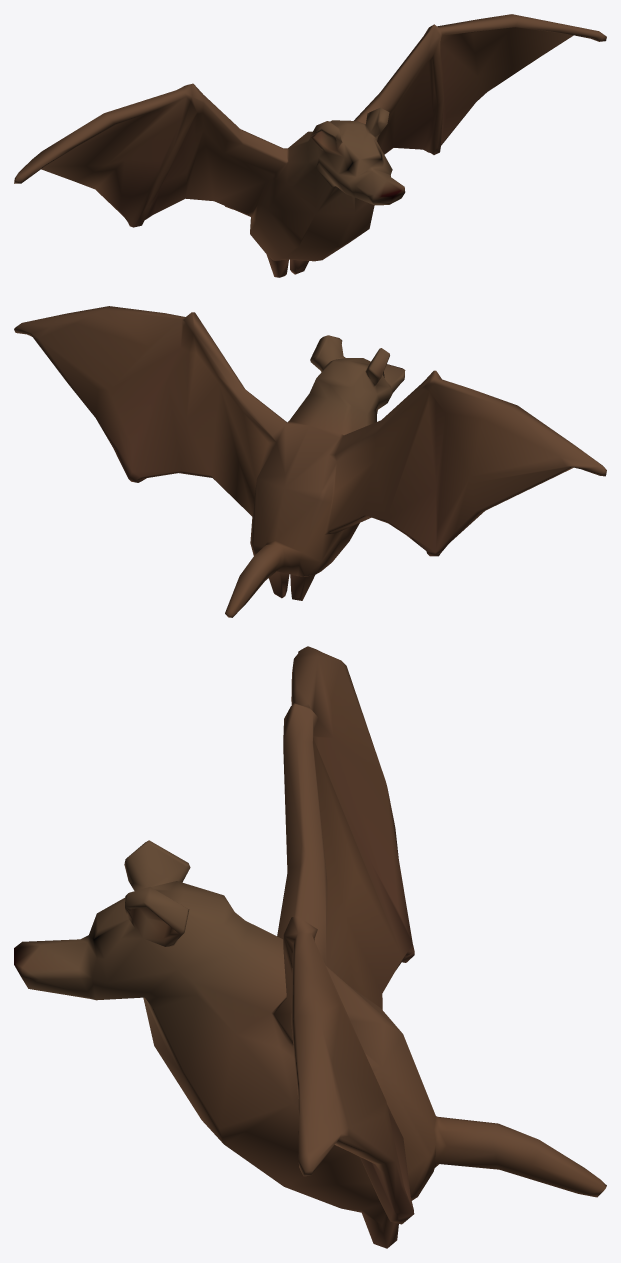
Rendered from gen3d-flying-bat-lod1.glb.
The picture shows the model from 3 angles, top to bottom: view 1: azimuth 30°, elevation 25°; view 2: azimuth 150°, elevation 25°; view 3: azimuth 270°, elevation 25°; orthographic projection. The views are drawn at different scales.
Parts seen in each view (by area): view 1: part_0; view 2: part_0; view 3: part_0.
Boxes of the visible parts, x1,y1,x2,y2 form: part_0: (14,14,606,277); part_0: (14,306,606,617); part_0: (14,646,606,1248).
Size of the model in its own units: 2.59 by 0.9972 by 1.25.
